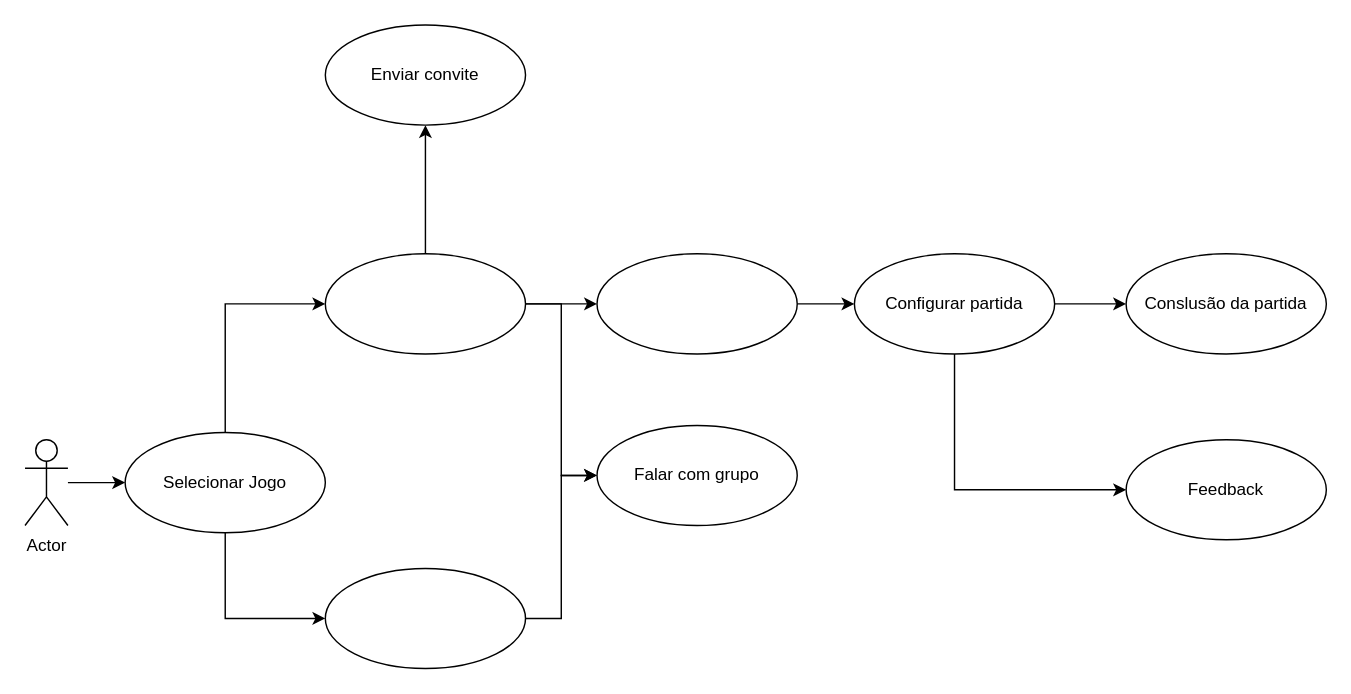
The diagram is 1351 pixels wide and 694 high, and some of its shapes have lost their labels. The shapes that lost their labels are listed below. From the top down, each one's box as (x1, y1, x2, y2) in pixels, then its label:
(324, 252, 526, 354): Criar um grupo
(596, 252, 797, 354): Desafiar grupos
(324, 567, 526, 669): Entrar em um grupo
